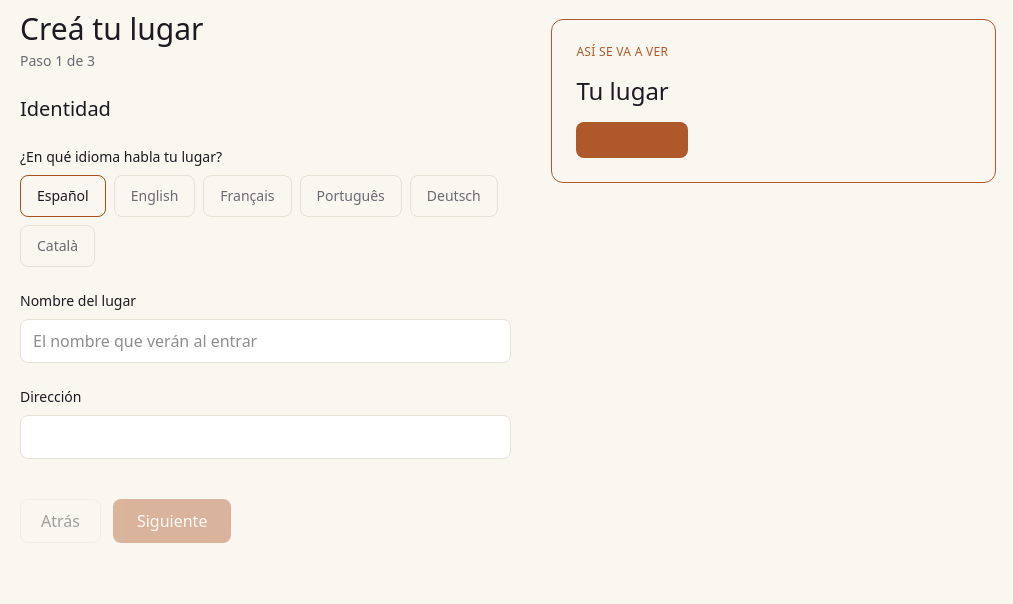
PlaceWizard — shell + Paso 1 (S8a) › el preview refleja el nombre en vivo y su placeholder cuando está vacío
Check: the element with test id "place-preview" shows "Tu lugar", box [576,74,669,107]
Step 1. Type "Casa Común" into the field labelled "Nombre del lugar" → (266, 341), box [20,319,511,363]
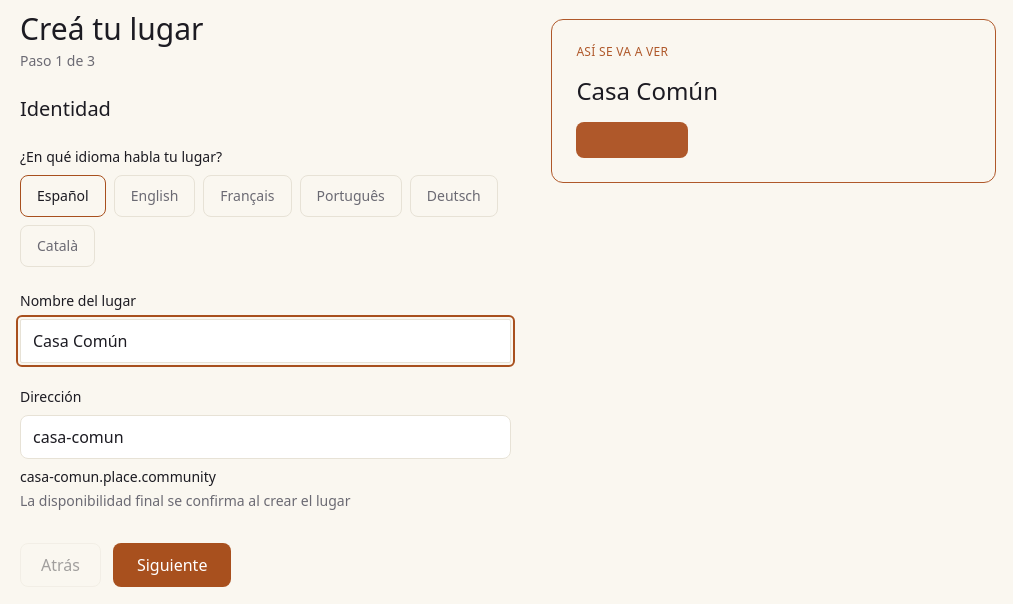
Check: the element with test id "place-preview" shows "Casa Común", box [576,74,718,107]
